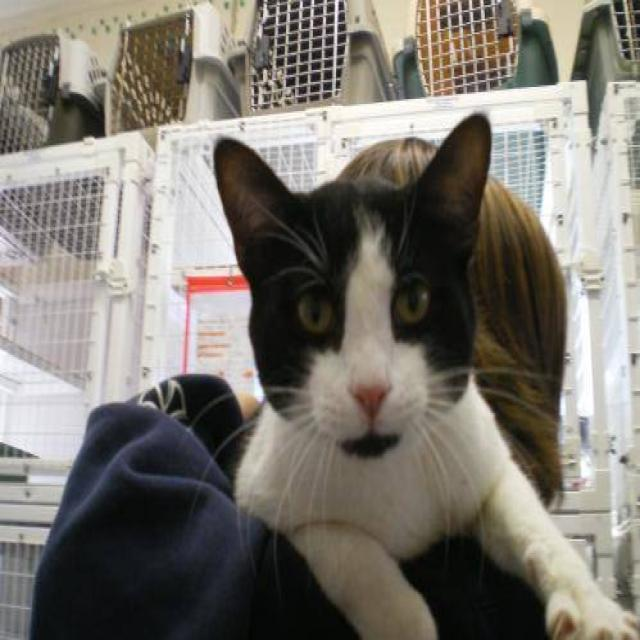cat: (210, 111, 639, 638)
